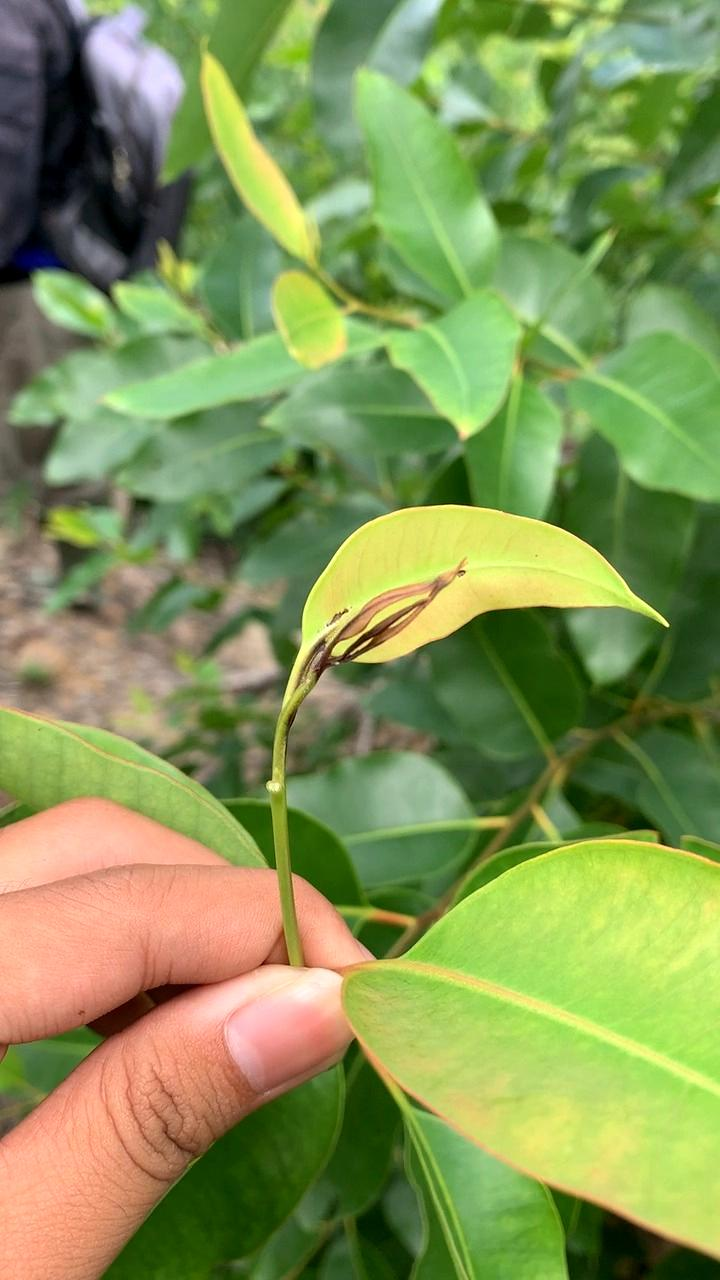Helopeltis-Withered Sprout: (285, 556, 481, 669)
